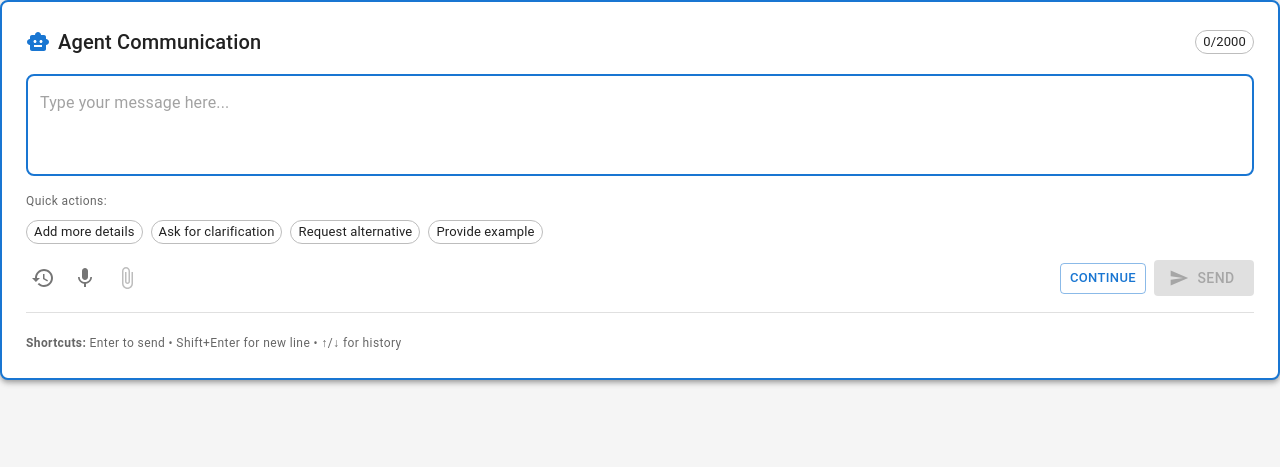
Test: UserInputPanel › Voice Input › shows error when speech recognition is not supported
Click the button named "Voice input" at x=85, y=278, box [68, 261, 102, 295]
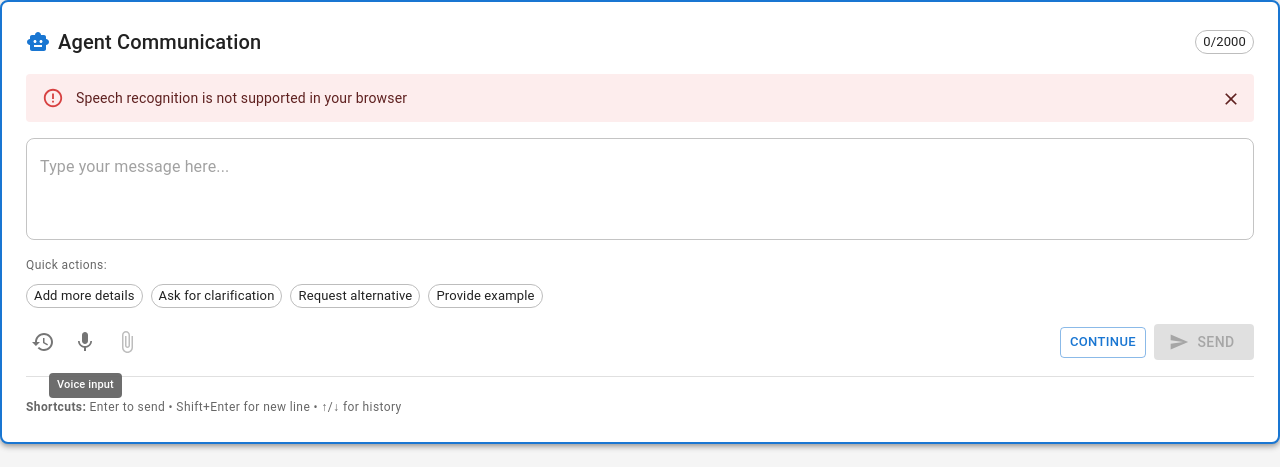
Expected: the text "Speech recognition is not supported in your browser" is shown, [76, 90, 407, 106]
